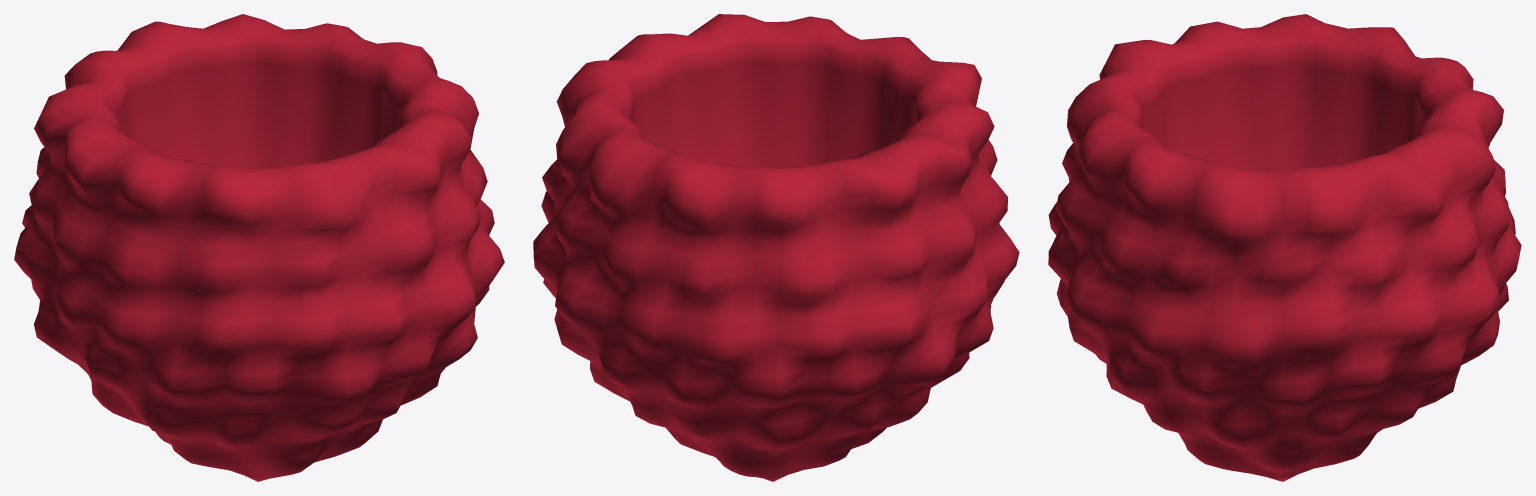
The picture shows the model from 3 angles, left to right: view 1: azimuth 30°, elevation 25°; view 2: azimuth 150°, elevation 25°; view 3: azimuth 270°, elevation 25°; orthographic projection.
Parts seen in each view (by area): view 1: NEW302_Raspberry_LOD2; view 2: NEW302_Raspberry_LOD2; view 3: NEW302_Raspberry_LOD2.
Boxes of the visible parts, bbox=[...] form: NEW302_Raspberry_LOD2: bbox=[14, 14, 504, 481]; NEW302_Raspberry_LOD2: bbox=[533, 14, 1019, 481]; NEW302_Raspberry_LOD2: bbox=[1048, 14, 1521, 481].
Size of the model in its own units: 0.0254 by 0.0229 by 0.0253.
